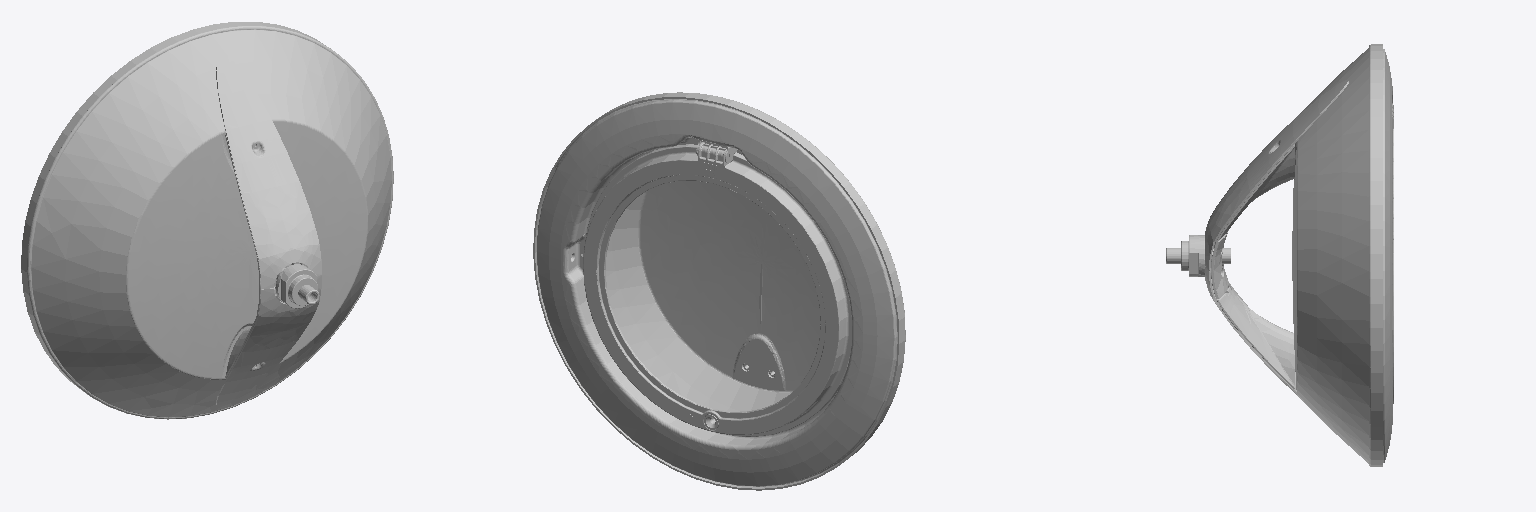
Rendered from DELOS.obj.
3 views of the same model, side by side, from view 1: azimuth 30°, elevation 25°; view 2: azimuth 150°, elevation 25°; view 3: azimuth 270°, elevation 25° (orthographic).
Parts seen in each view (by area): view 1: Part__Feature; view 2: Part__Feature; view 3: Part__Feature.
Part boxes in pixels (x1,y1,x2,y2): Part__Feature: (21,22,393,419); Part__Feature: (533,92,905,490); Part__Feature: (1166,44,1393,466).
Size of the model in its own units: 550 by 550 by 297.